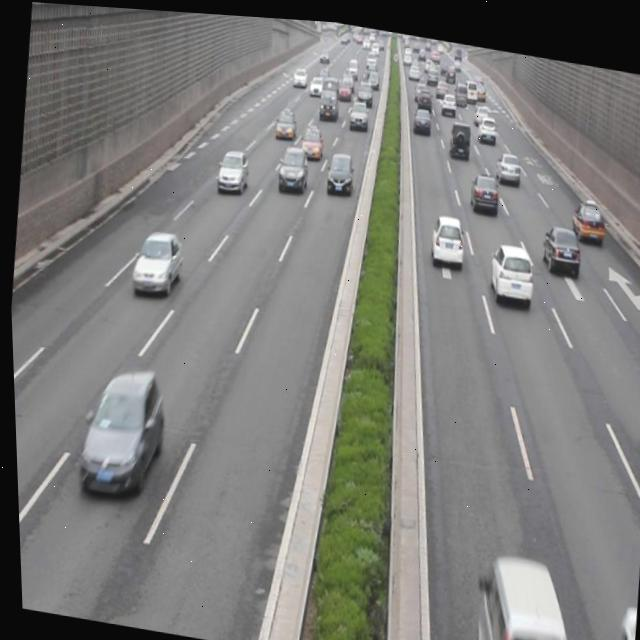car: (71, 356, 169, 506), (127, 221, 184, 297), (482, 231, 535, 297), (537, 214, 580, 270), (425, 205, 465, 261), (213, 142, 249, 193), (567, 189, 606, 236), (275, 138, 308, 191), (322, 144, 355, 192), (465, 163, 498, 209), (606, 592, 635, 640), (445, 113, 472, 158), (492, 141, 521, 180), (297, 117, 324, 157), (630, 380, 640, 471), (272, 101, 297, 135)
truck: (462, 540, 576, 640)
